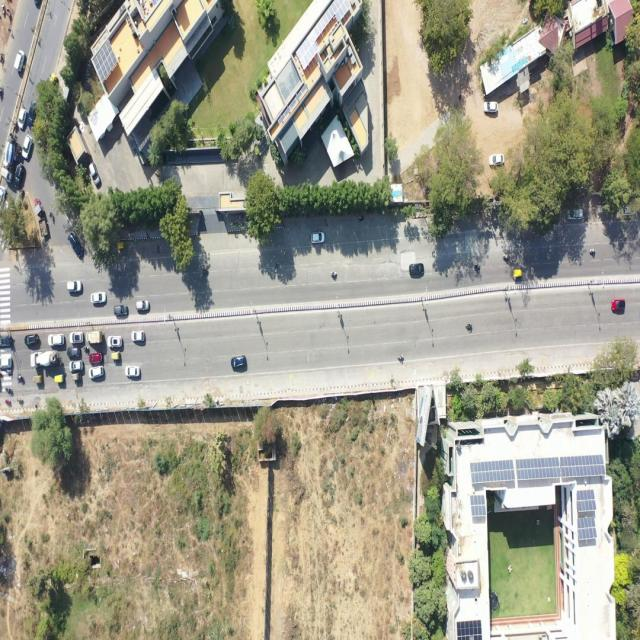3W: (85, 328, 104, 344), (510, 268, 525, 282), (48, 70, 57, 88), (110, 349, 121, 361), (32, 375, 44, 385), (115, 242, 127, 252), (54, 373, 64, 383)
Cars: (67, 229, 85, 263), (88, 154, 102, 187), (21, 132, 35, 158), (26, 98, 38, 127), (486, 151, 504, 170), (616, 204, 636, 220), (14, 50, 26, 76), (408, 261, 427, 277), (480, 100, 498, 116), (134, 297, 152, 313), (113, 302, 129, 318), (106, 334, 123, 349), (229, 356, 248, 369), (612, 297, 627, 313), (566, 208, 583, 222), (66, 279, 83, 293), (90, 290, 107, 304), (0, 334, 18, 347), (311, 229, 326, 244), (49, 332, 67, 344), (69, 330, 84, 344), (25, 333, 40, 347), (123, 365, 139, 378), (0, 357, 16, 370), (88, 352, 103, 365), (67, 359, 84, 370), (88, 367, 105, 378), (131, 329, 146, 341), (67, 346, 82, 358)
LCV: (71, 372, 82, 384)
M2W: (0, 44, 9, 66), (200, 267, 210, 281), (329, 267, 339, 281), (464, 319, 474, 332), (396, 352, 406, 361), (6, 0, 13, 12), (0, 86, 6, 100), (503, 252, 512, 261), (4, 397, 14, 404), (473, 265, 483, 272), (589, 247, 596, 257), (6, 386, 14, 394), (16, 375, 25, 382), (357, 213, 364, 221), (6, 369, 12, 376), (16, 398, 24, 403), (83, 346, 89, 352)
MAV: (0, 125, 18, 180), (30, 189, 49, 239)
Truck: (30, 350, 62, 366)
